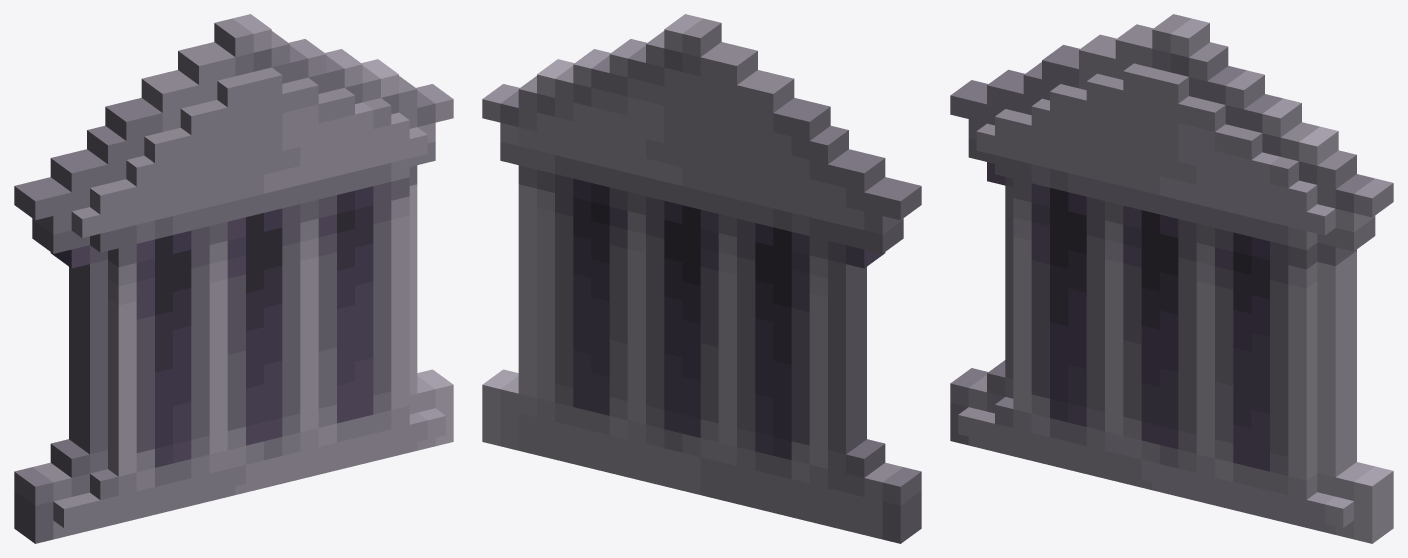
File: postcard-hue.glb
3 views of the same model, side by side, from view 1: azimuth 30°, elevation 25°; view 2: azimuth 150°, elevation 25°; view 3: azimuth 330°, elevation 25° (orthographic).
Parts seen in each view (by area): view 1: prop; view 2: prop; view 3: prop.
Part boxes in pixels (x1,y1,x2,y2): prop: [14, 14, 453, 543]; prop: [482, 14, 921, 543]; prop: [950, 14, 1393, 543].
Bounding box in the file's own units: 15.33 × 16 × 2.
